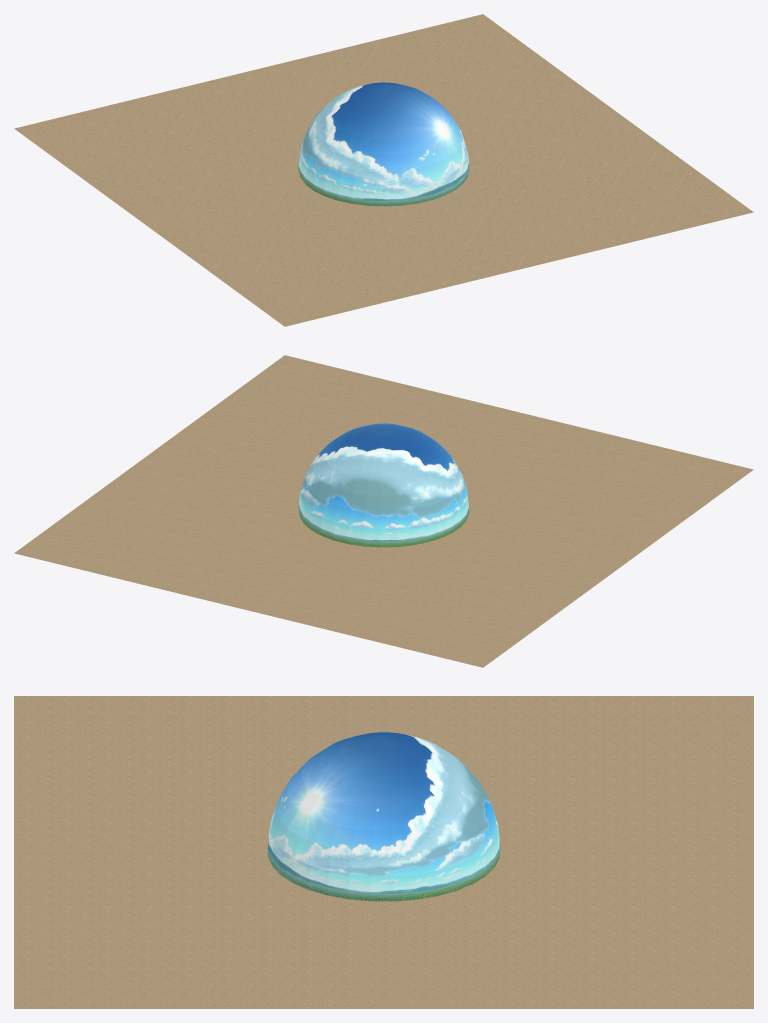
3 views of the same model, one above another, from view 1: azimuth 30°, elevation 25°; view 2: azimuth 150°, elevation 25°; view 3: azimuth 270°, elevation 25° (orthographic). The views are drawn at different scales.
Parts seen in each view (by area): view 1: Plane_0, Sphere_4; view 2: Plane_0, Sphere_4; view 3: Plane_0, Sphere_4.
Part boxes in pixels (x1=…): Plane_0: x1=14, y1=14, x2=753, y2=326; Sphere_4: x1=298, y1=82, x2=469, y2=206; Plane_0: x1=14, y1=355, x2=753, y2=667; Sphere_4: x1=298, y1=423, x2=469, y2=547; Plane_0: x1=14, y1=696, x2=753, y2=1008; Sphere_4: x1=267, y1=732, x2=500, y2=901.
Bounding box in the file's own units: 107 × 33.8 × 107.
Materials: 20 (9 with a texture image).
